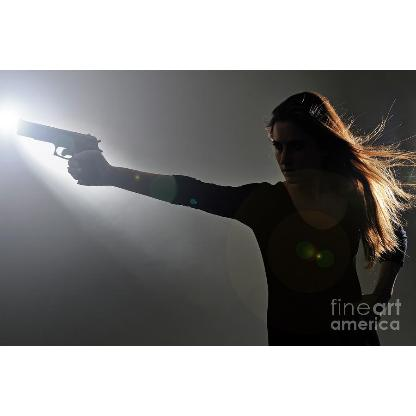gun: (13, 119, 104, 187)
